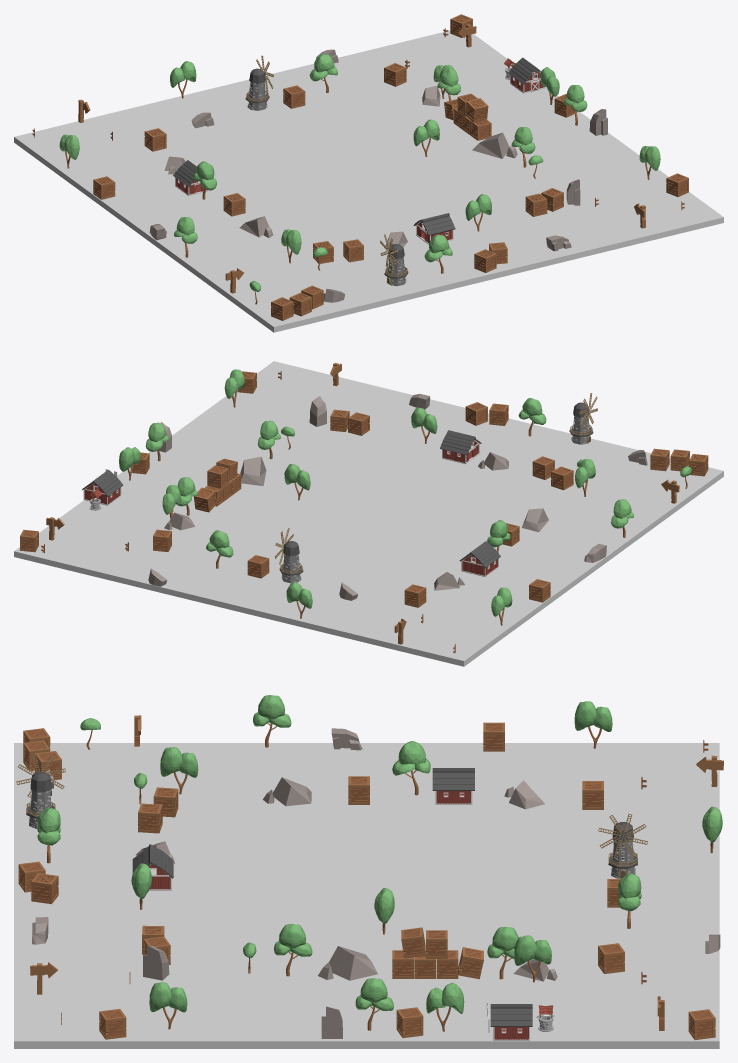
3 renders of one model, top to bottom at view 1: azimuth 30°, elevation 25°; view 2: azimuth 150°, elevation 25°; view 3: azimuth 270°, elevation 25°, orthographic. The views are drawn at different scales.
Parts seen in each view (by area): view 1: Cube, Small_Barn.002, Small_Barn, TowerWindmill, TowerWindmill.001, Rock3.003, Small_Barn.001, Tree2.006, Tree2.003, Tree4, Tree4.003, Tree4.006 (+1 smaller); view 2: Cube, Small_Barn.002, Small_Barn.001, Small_Barn, TowerWindmill, TowerWindmill.001, Rock3.003, Tree2.006, Tree2.003, Tree4, Tree4.006, Tree4.003 (+3 smaller); view 3: Cube, Small_Barn.001, Small_Barn, Rock3.003, TowerWindmill, Small_Barn.002, Tree2.002, Tree2.004, Tree2.005, Tree2, TowerWindmill.001, Tree4.004 (+29 smaller).
Boxes of the visible parts, box(x1,y1,x2,y2) form: Cube: box(14, 30, 723, 332); Small_Barn.002: box(413, 213, 455, 244); Small_Barn: box(508, 57, 546, 93); TowerWindmill: box(245, 68, 269, 110); TowerWindmill.001: box(384, 244, 408, 286); Rock3.003: box(472, 132, 517, 158); Small_Barn.001: box(173, 160, 212, 195); Tree2.006: box(424, 234, 452, 273); Tree2.003: box(309, 54, 337, 92); Tree4: box(413, 119, 439, 156); Tree4.003: box(465, 194, 491, 231); Tree4.006: box(170, 61, 196, 98); Cube: box(14, 361, 723, 666); Small_Barn.002: box(440, 430, 481, 464); Small_Barn.001: box(459, 541, 500, 576); Small_Barn: box(82, 469, 123, 505); TowerWindmill: box(279, 541, 303, 583); TowerWindmill.001: box(569, 402, 593, 444); Rock3.003: box(240, 456, 266, 485); Tree2.006: box(518, 398, 546, 436); Tree2.003: box(206, 530, 233, 568); Tree4: box(284, 464, 310, 500); Tree4.006: box(286, 582, 312, 618); Tree4.003: box(411, 407, 437, 443); Cube: box(14, 743, 719, 1048); Small_Barn.001: box(432, 768, 474, 804); Small_Barn: box(490, 1004, 532, 1040); Rock3.003: box(318, 946, 377, 980); TowerWindmill: box(608, 822, 637, 878); Small_Barn.002: box(132, 844, 173, 890); Tree2.002: box(355, 978, 393, 1030); Tree2.004: box(392, 741, 430, 795); Tree2.005: box(253, 695, 291, 747); Tree2: box(274, 924, 312, 976); TowerWindmill.001: box(26, 772, 55, 828); Tree4.004: box(160, 747, 198, 794).
Size of the model in its own units: 113 by 14.03 by 114.
